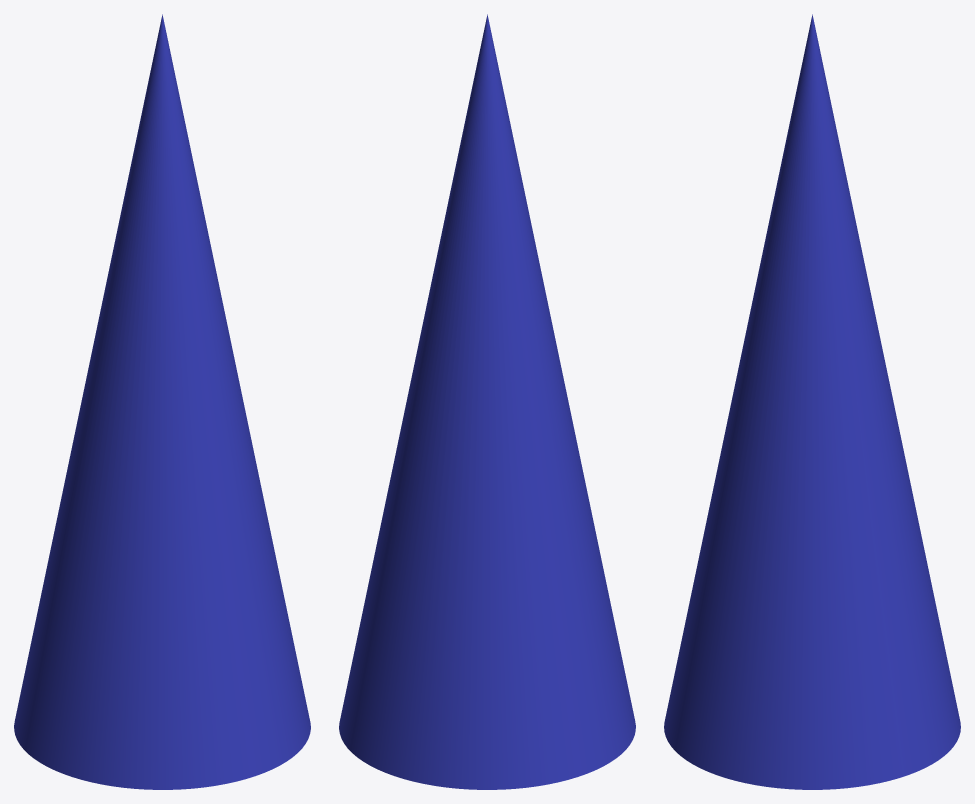
Rendered from horn.fbx.
3 renders of one model, left to right at view 1: azimuth 30°, elevation 25°; view 2: azimuth 150°, elevation 25°; view 3: azimuth 270°, elevation 25°, orthographic.
Parts seen in each view (by area): view 1: root; view 2: root; view 3: root.
Part boxes in pixels (x1=…): root: x1=14, y1=14, x2=310, y2=789; root: x1=339, y1=14, x2=635, y2=789; root: x1=664, y1=14, x2=960, y2=789.
Bounding box in the file's own units: 0.2179 × 0.5774 × 0.2179.
